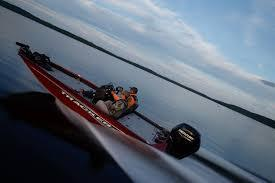fishing boat: (14, 28, 204, 164)
